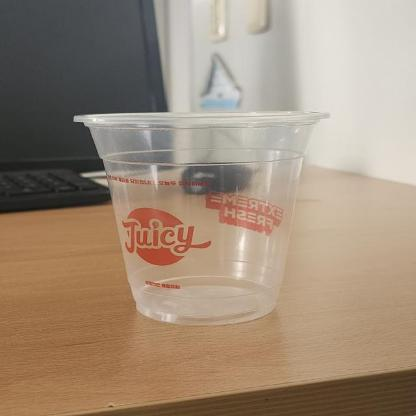Plastic Cup: (74, 110, 340, 326)
